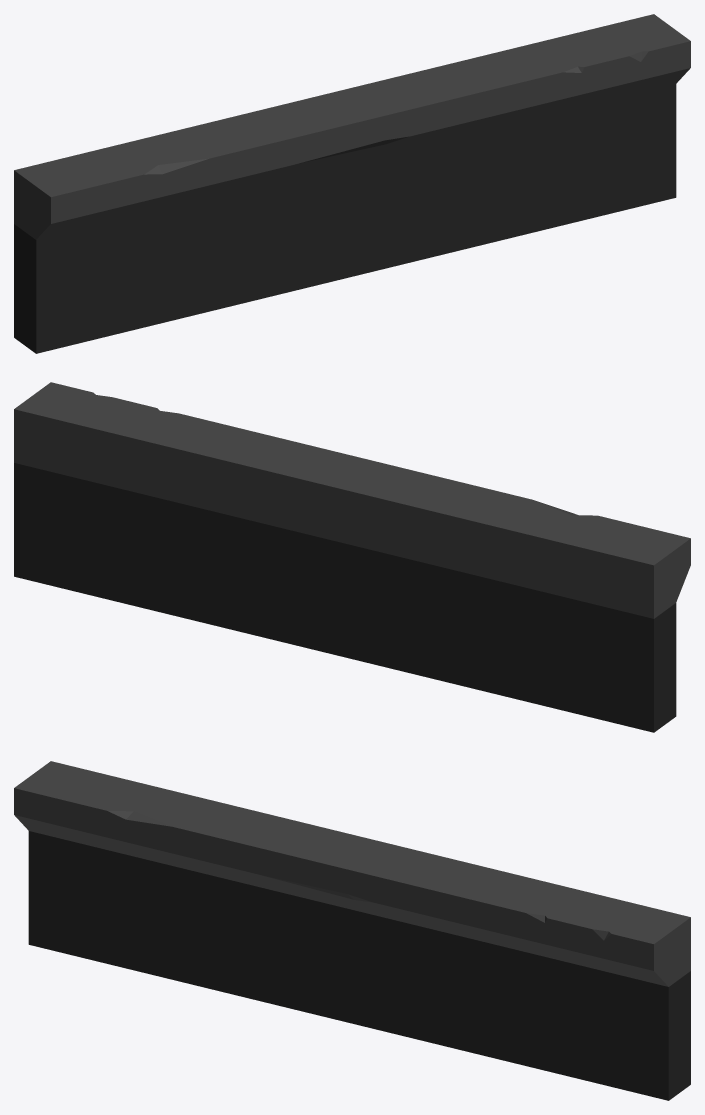
File: SW_ENV_RailTunnel_Wall_Ledge_A_05m.fbx
3 renders of one model, top to bottom at view 1: azimuth 30°, elevation 25°; view 2: azimuth 150°, elevation 25°; view 3: azimuth 330°, elevation 25°, orthographic.
Parts seen in each view (by area): view 1: SW_ENV_RailTunnel_Wall_Ledge_A_05m; view 2: SW_ENV_RailTunnel_Wall_Ledge_A_05m; view 3: SW_ENV_RailTunnel_Wall_Ledge_A_05m.
Boxes of the visible parts, x1,y1,x2,y2 form: SW_ENV_RailTunnel_Wall_Ledge_A_05m: (14,14,690,353); SW_ENV_RailTunnel_Wall_Ledge_A_05m: (14,382,690,732); SW_ENV_RailTunnel_Wall_Ledge_A_05m: (14,761,690,1100).
Bounding box in the file's own units: 5 × 1.25 × 0.5.
